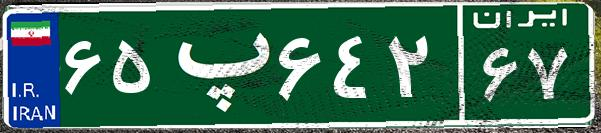2: (385, 28, 445, 110)
4: (330, 28, 385, 110)
5: (110, 28, 158, 105)
6: (273, 28, 330, 110), (57, 26, 110, 107), (475, 38, 525, 113)
7: (525, 38, 570, 115)
پ: (158, 15, 273, 115)
